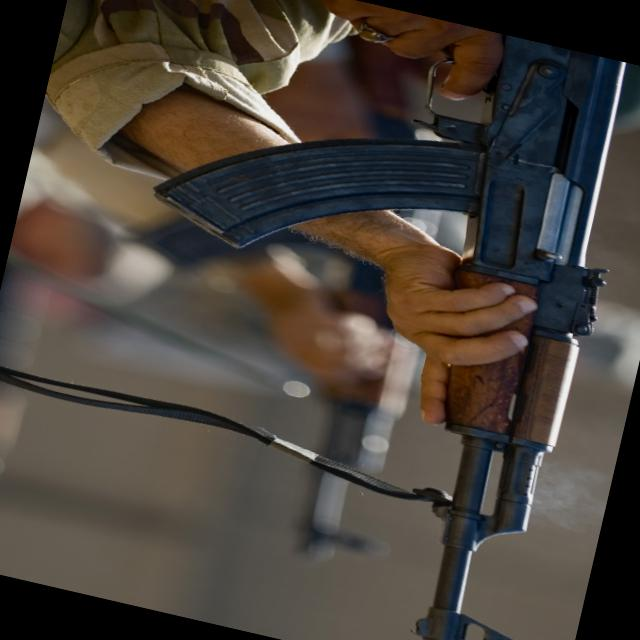long weapon: (78, 0, 639, 639)
